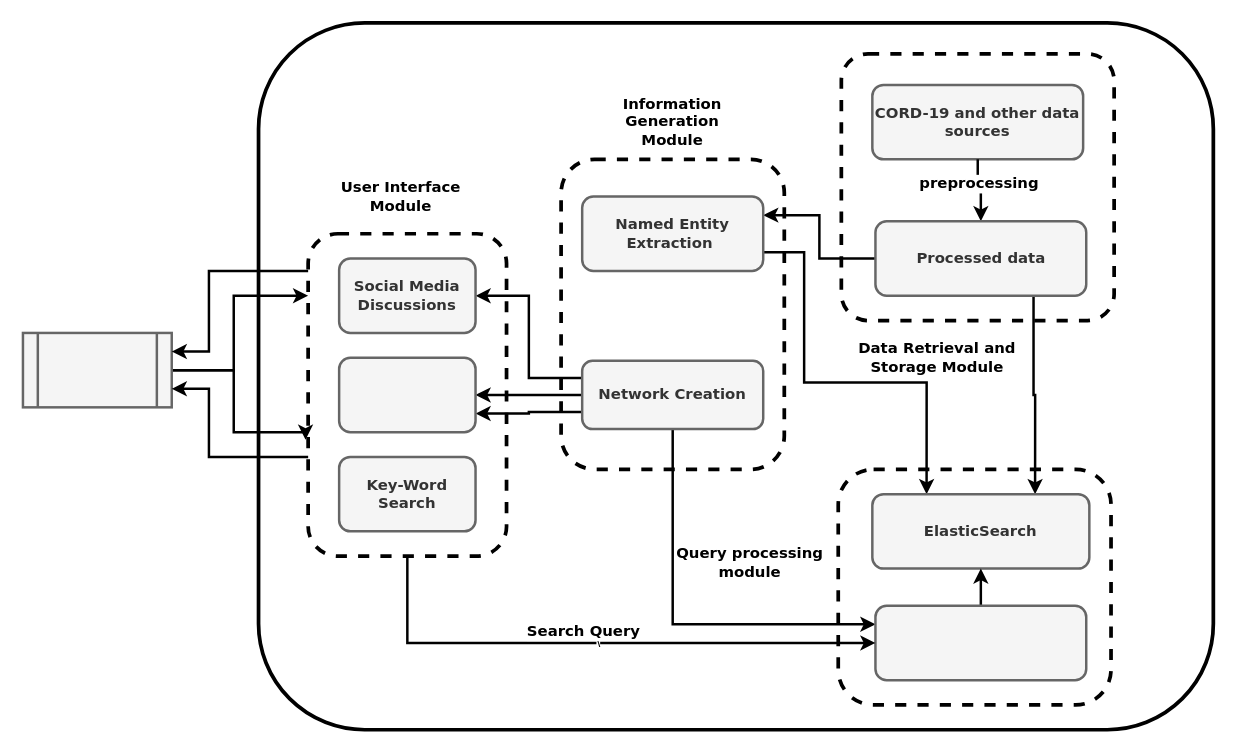
Image size: 1236x753. Some labels were removed from this diagram. Here are the shapes that lost their labels. From the top down, the centre of each, then its label:
point (96, 369): User
point (406, 394): Statistics
point (980, 642): Query processing
